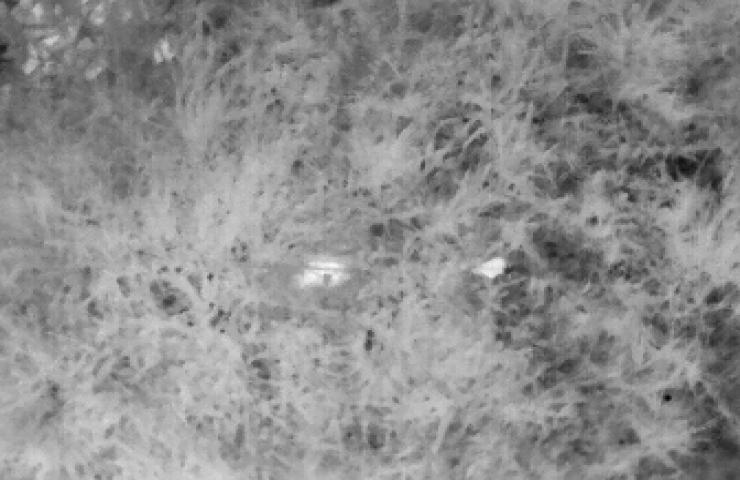landmines: (293, 254, 356, 297)
